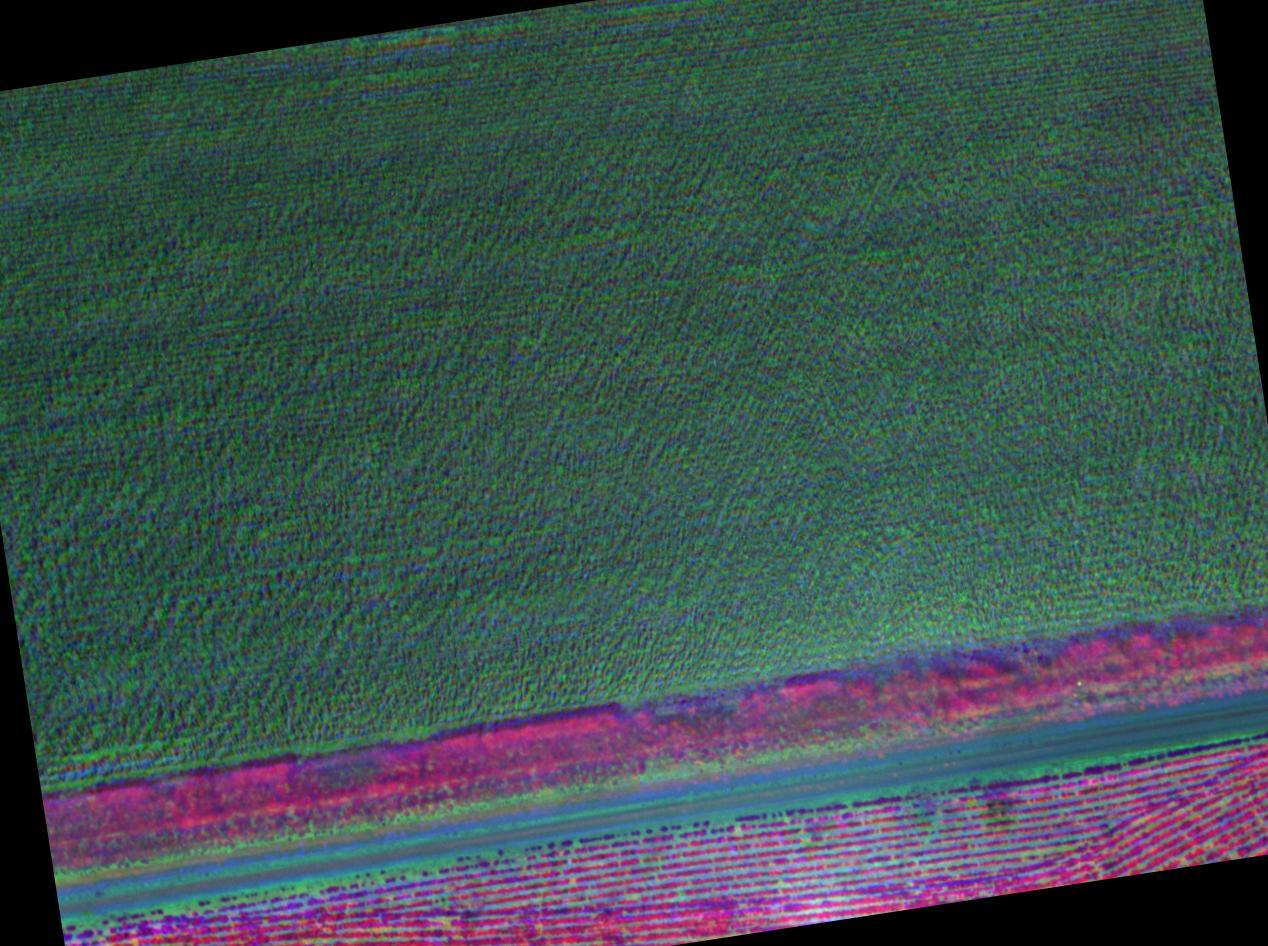dc: (946, 764, 1048, 856)
